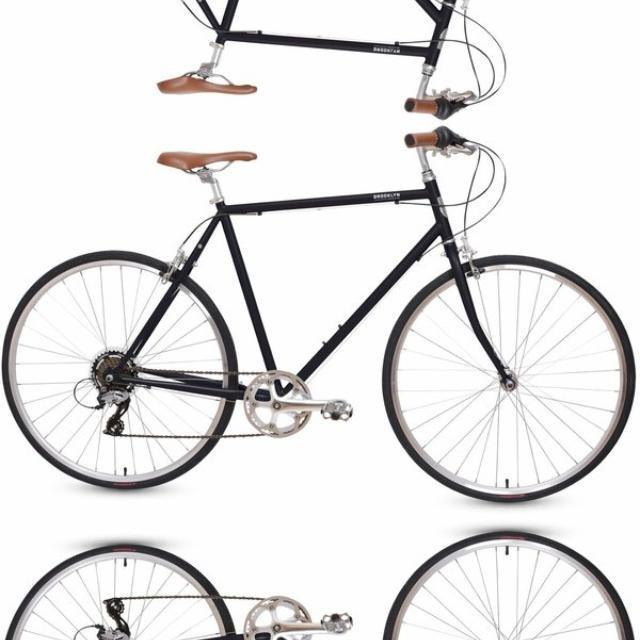obstacle: (2, 124, 640, 516), (2, 517, 640, 640), (2, 0, 640, 119)
